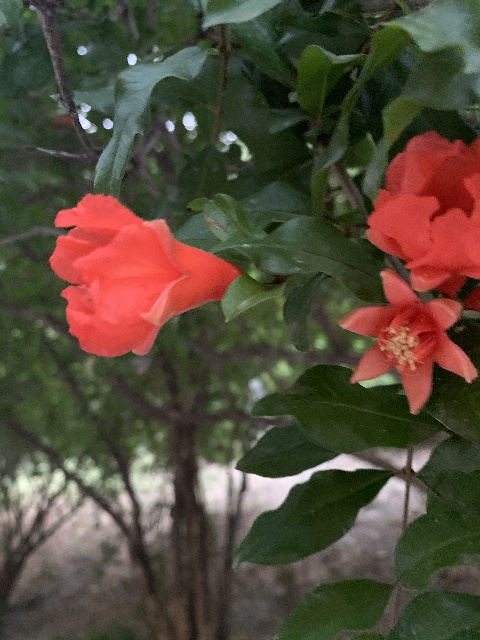flower: (49, 194, 243, 357), (337, 268, 476, 414), (365, 130, 480, 296)
